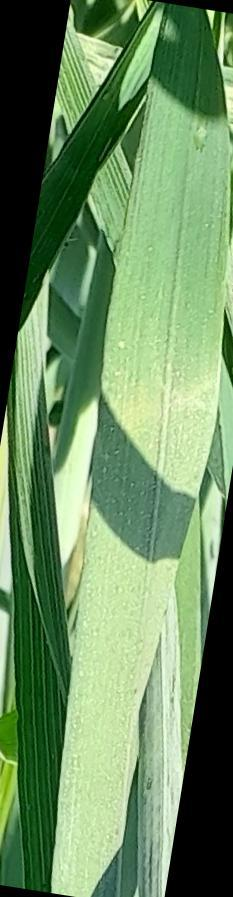Wheat: (146, 54, 204, 435), (84, 550, 131, 820), (90, 462, 195, 529)
